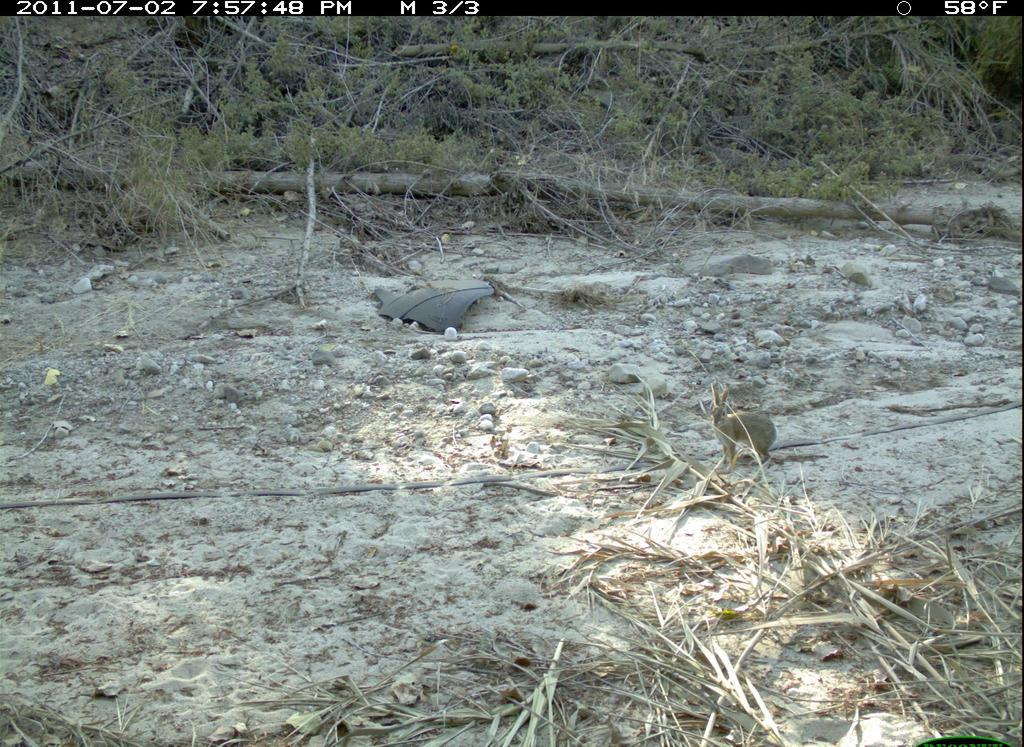rabbit: (687, 379, 833, 484)
